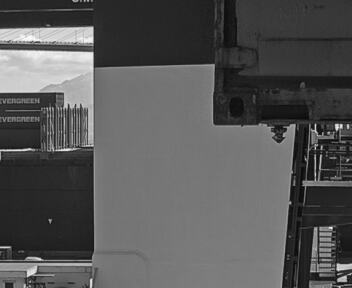twist_lock_2: (180, 71, 239, 114)
